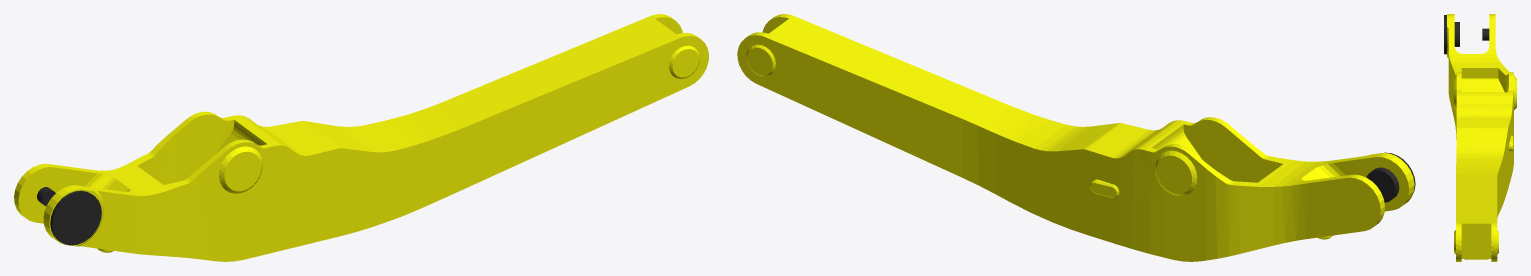
The picture shows the model from 3 angles, left to right: view 1: azimuth 30°, elevation 25°; view 2: azimuth 150°, elevation 25°; view 3: azimuth 270°, elevation 25°; orthographic projection. The views are drawn at different scales.
Parts seen in each view (by area): view 1: node; view 2: node; view 3: node.
Part boxes in pixels (x1,y1,x2,y2): node: (14, 14, 708, 261); node: (737, 14, 1415, 261); node: (1444, 14, 1516, 261).
Bounding box in the file's own units: 1542 × 270 × 211.
